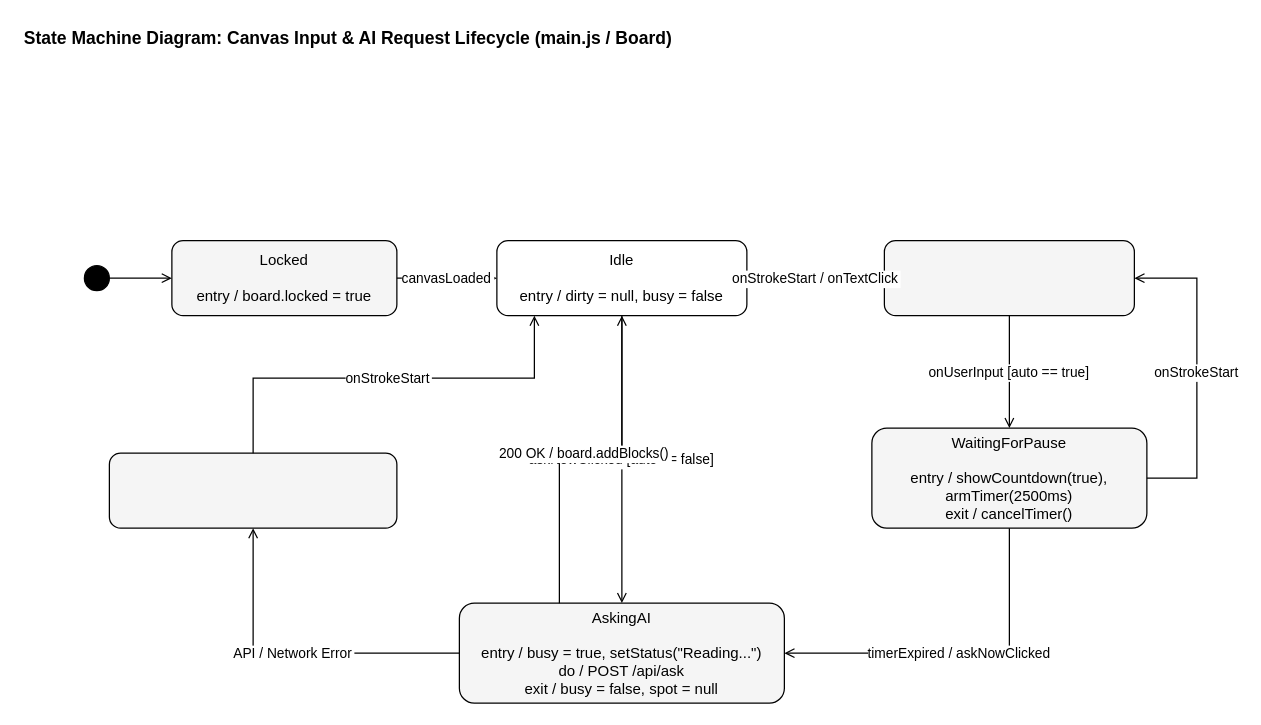
Some shapes in this 1261 by 725 pixel diagram are drawn without their labels. Here are the shapes that lost their labels. From the top down, the centre of each, then its label:
point 1008,277: Drawing / Typing do / track strokes, cancelTimer()
point 252,490: Error entry / setStatus(err.message, "error")
